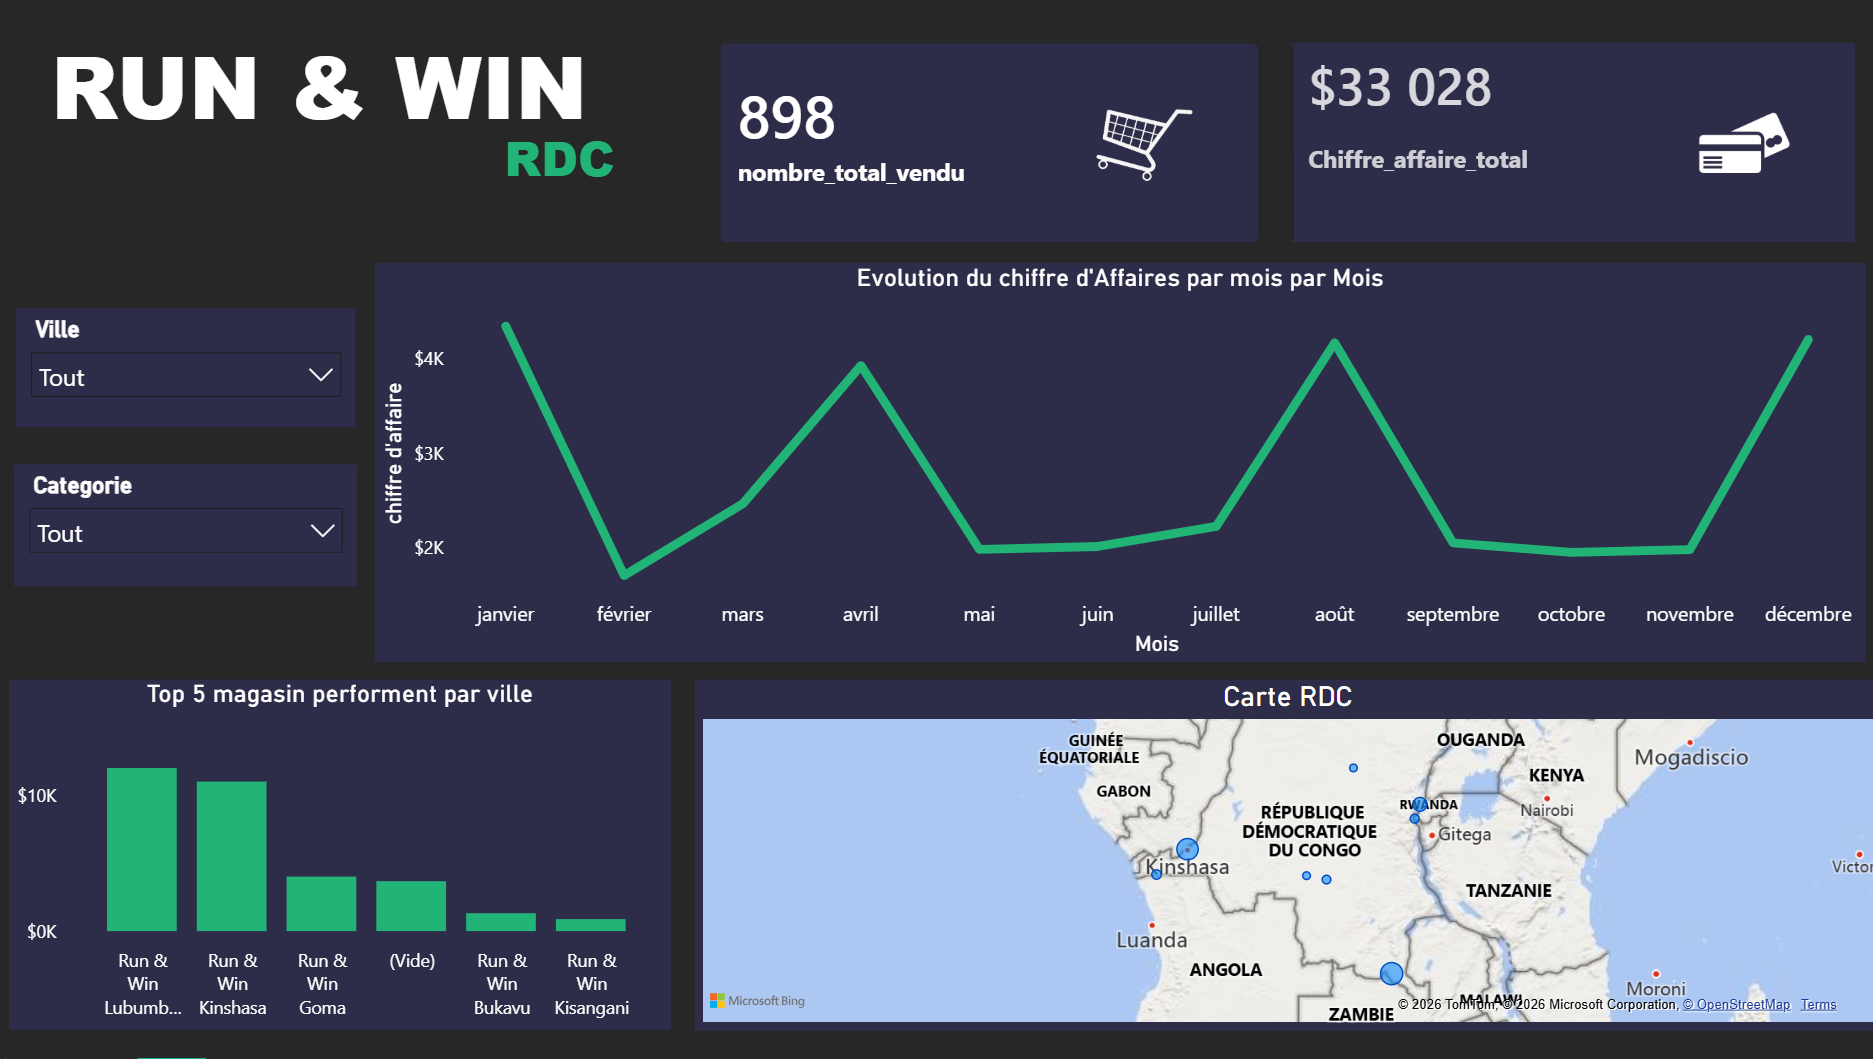

This screenshot's page, from the dashboard's own definition file:
{"tool":"powerbi","page":{"name":"Page 1","canvas":[1280,720],"ordinal":0},"visuals":[{"type":"slicer","fields":{"Values":["public categories.nom_categorie"]},"box":[13.1,317,232.7,83.1],"z":0},{"type":"cardVisual","fields":{"Data":["public categories.Mesure 2"]},"box":[861.9,13.7,417.9,169.2],"z":1000},{"type":"lineChart","fields":{"Category":["public ventes.date_vente.Variation.Hiérarchie de dates.Mois"],"Y":["public categories.Mesure 2"]},"box":[257.6,180.5,1011.6,270.7],"z":2000},{"type":"map","title":"Carte RDC ","fields":{"Category":["public villes.nom_ville"],"Size":["public categories.Mesure 2"]},"box":[475.1,462.7,804.7,237.6],"z":3000},{"type":"clusteredColumnChart","title":"Top 5 magasin performent ","fields":{"Category":["public magasins (2).nom_magasin"],"Y":["public categories.Mesure 2"]},"box":[10,462.7,449,237.6],"z":4000},{"type":"cardVisual","fields":{"Data":["public categories.nombre_total_vendu"]},"box":[475.1,13.7,399.2,169.2],"z":5000},{"type":"slicer","fields":{"Values":["public villes.nom_ville"]},"box":[14.2,211.3,230.3,80.7],"z":7000},{"type":"textbox","box":[13.2,13.2,433.5,93.6],"z":8000},{"type":"textbox","box":[341.3,80.4,185.8,101.5],"z":9000}]}

Visuals, with their boxes in screenshot pixels (x1, y1, x2, y2), scaled from the page's 1280x720 canvas onto the 1873x1059 screenshot:
slicer - public categories.nom_categorie: {"x1": 19, "y1": 466, "x2": 360, "y2": 588}
cardVisual - public categories.Mesure 2: {"x1": 1261, "y1": 20, "x2": 1872, "y2": 269}
lineChart - public ventes.date_vente.Variation.Hiérarchie de dates.Mois x public categories.Mesure 2: {"x1": 377, "y1": 265, "x2": 1857, "y2": 664}
"Carte RDC " map: {"x1": 695, "y1": 681, "x2": 1872, "y2": 1030}
"Top 5 magasin performent " clusteredColumnChart: {"x1": 15, "y1": 681, "x2": 672, "y2": 1030}
cardVisual - public categories.nombre_total_vendu: {"x1": 695, "y1": 20, "x2": 1279, "y2": 269}
slicer - public villes.nom_ville: {"x1": 21, "y1": 311, "x2": 358, "y2": 429}
textbox: {"x1": 19, "y1": 19, "x2": 654, "y2": 157}
textbox: {"x1": 499, "y1": 118, "x2": 771, "y2": 268}
